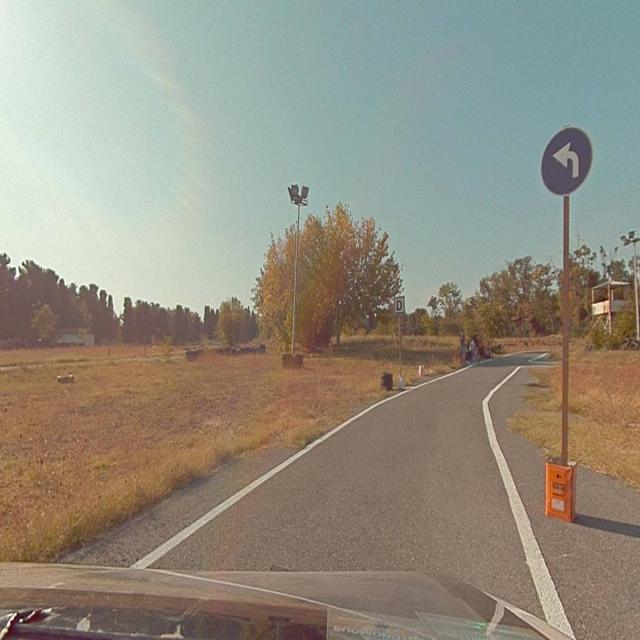durak: (395, 296, 404, 315)
sol: (542, 126, 591, 191)
